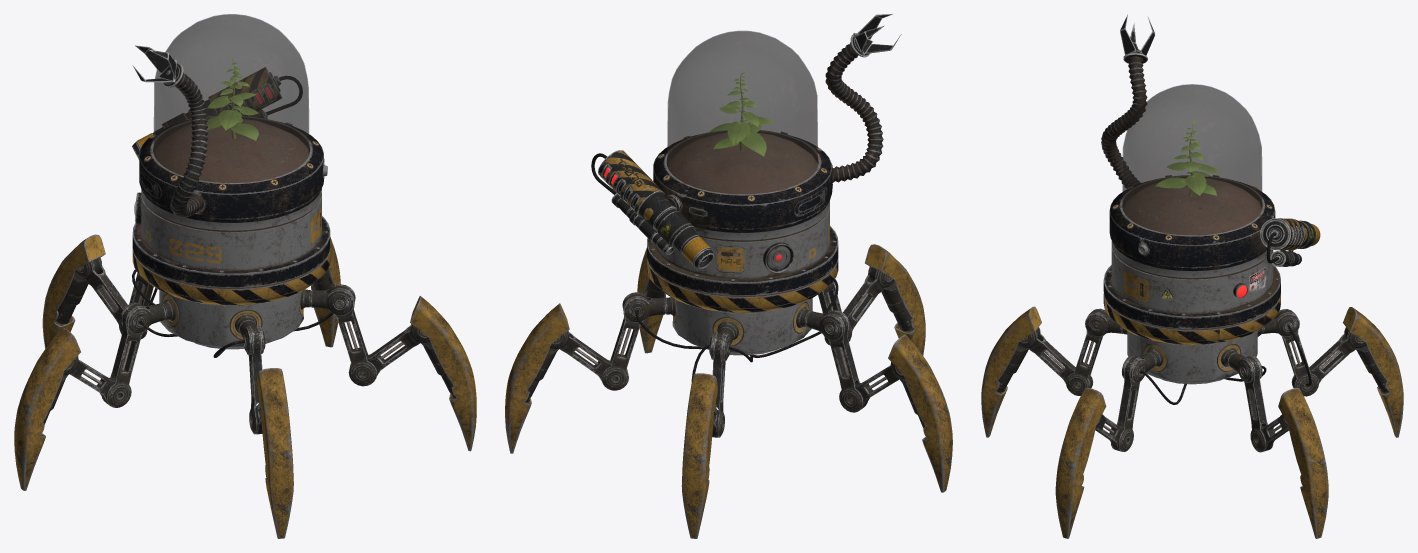
File: guardian_of_the_plants.glb
The picture shows the model from 3 angles, left to right: view 1: azimuth 30°, elevation 25°; view 2: azimuth 150°, elevation 25°; view 3: azimuth 270°, elevation 25°; orthographic projection. The views are drawn at different scales.
Visible parts, largest first — view 1: BG_1_Body_low, BG_2_Glass_low, BG_3_ground_low, BG_2_Lower_low, BG_2_Shell1_low, BG_2_Shell2_low, BG_2_Shell3_low, BG_2_Arm_low, BG_2_Shell_low, BG_2_Biggun_low, BG_2_Joint1_low, BG_3_Leaves_low (+10 smaller); view 2: BG_2_Glass_low, BG_1_Body_low, BG_3_ground_low, BG_2_Lower_low, BG_2_Biggun_low, BG_2_Shell1_low, BG_2_Shell_low, BG_2_Shell4_low, BG_2_Arm_low, BG_2_Shell2_low, BG_3_Leaves_low, BG_2_Joint1_low (+11 smaller); view 3: BG_1_Body_low, BG_2_Glass_low, BG_3_ground_low, BG_2_Lower_low, BG_2_Shell3_low, BG_2_Shell4_low, BG_2_Shell2_low, BG_2_Shell_low, BG_2_Arm_low, BG_2_Biggun_low, BG_3_Leaves_low, BG_2_Joint4_low (+11 smaller).
Boxes of the visible parts, x1=… form: BG_1_Body_low: x1=132, y1=116, x2=330, y2=305; BG_2_Glass_low: x1=154, y1=14, x2=309, y2=182; BG_3_ground_low: x1=153, y1=119, x2=309, y2=182; BG_2_Lower_low: x1=159, y1=290, x2=303, y2=349; BG_2_Shell1_low: x1=14, y1=327, x2=80, y2=490; BG_2_Shell2_low: x1=256, y1=368, x2=293, y2=538; BG_2_Shell3_low: x1=410, y1=296, x2=476, y2=451; BG_2_Arm_low: x1=162, y1=62, x2=207, y2=217; BG_2_Shell_low: x1=42, y1=234, x2=105, y2=348; BG_2_Biggun_low: x1=132, y1=67, x2=281, y2=159; BG_2_Joint1_low: x1=102, y1=303, x2=146, y2=407; BG_3_Leaves_low: x1=206, y1=62, x2=258, y2=140; BG_2_Glass_low: x1=667, y1=31, x2=817, y2=193; BG_1_Body_low: x1=647, y1=130, x2=838, y2=312; BG_3_ground_low: x1=667, y1=132, x2=818, y2=194; BG_2_Lower_low: x1=672, y1=298, x2=812, y2=355; BG_2_Biggun_low: x1=598, y1=150, x2=713, y2=268; BG_2_Shell1_low: x1=888, y1=334, x2=952, y2=492; BG_2_Shell_low: x1=681, y1=373, x2=717, y2=538; BG_2_Shell4_low: x1=505, y1=303, x2=569, y2=453; BG_2_Arm_low: x1=825, y1=33, x2=883, y2=182; BG_2_Shell2_low: x1=865, y1=244, x2=925, y2=355; BG_3_Leaves_low: x1=709, y1=76, x2=774, y2=156; BG_2_Joint1_low: x1=825, y1=311, x2=867, y2=412; BG_1_Body_low: x1=1103, y1=175, x2=1280, y2=344; BG_2_Glass_low: x1=1122, y1=84, x2=1262, y2=234; BG_3_ground_low: x1=1123, y1=178, x2=1261, y2=235; BG_2_Lower_low: x1=1127, y1=331, x2=1257, y2=384; BG_2_Shell3_low: x1=1055, y1=387, x2=1106, y2=538; BG_2_Shell4_low: x1=1278, y1=387, x2=1328, y2=538; BG_2_Shell2_low: x1=981, y1=306, x2=1041, y2=437; BG_2_Shell_low: x1=1343, y1=307, x2=1403, y2=437; BG_2_Arm_low: x1=1101, y1=53, x2=1147, y2=188; BG_2_Biggun_low: x1=1260, y1=218, x2=1320, y2=250; BG_3_Leaves_low: x1=1155, y1=128, x2=1221, y2=195; BG_2_Joint4_low: x1=1243, y1=356, x2=1273, y2=452.
Bounding box in the file's own units: 1.2 × 1.3 × 1.25.
2 materials, 2 textured.
